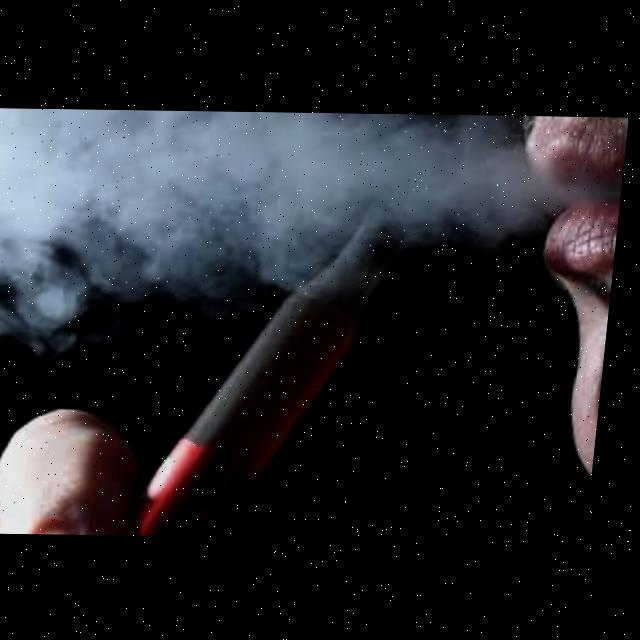vape: (127, 203, 417, 538)
